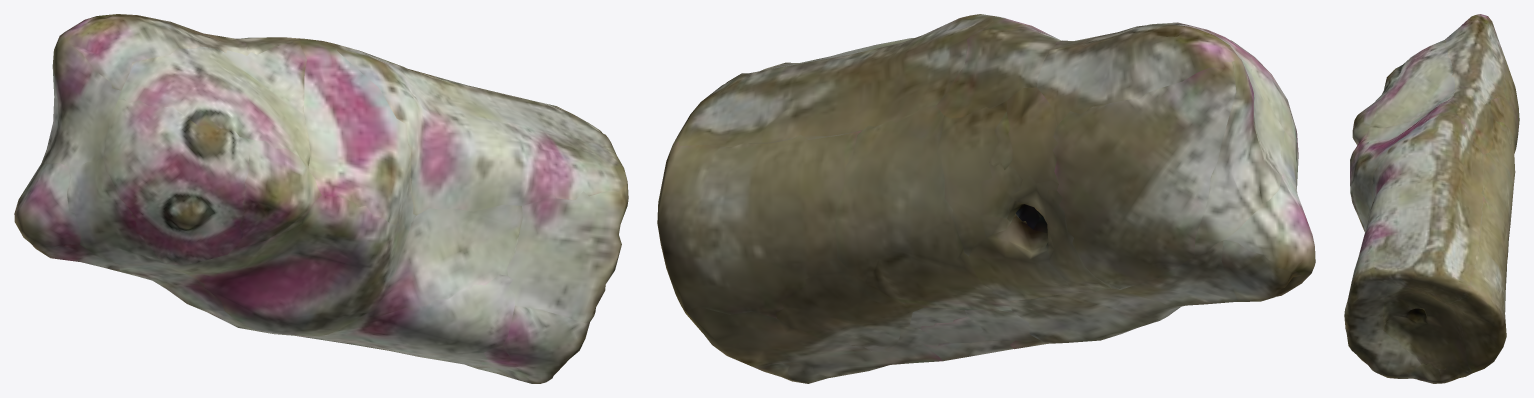
Rendered from hall.glb.
The picture shows the model from 3 angles, left to right: view 1: azimuth 30°, elevation 25°; view 2: azimuth 150°, elevation 25°; view 3: azimuth 270°, elevation 25°; orthographic projection. The views are drawn at different scales.
Size of the model in its own units: 0.9739 by 0.6915 by 0.4308.
1 material, 1 textured.
